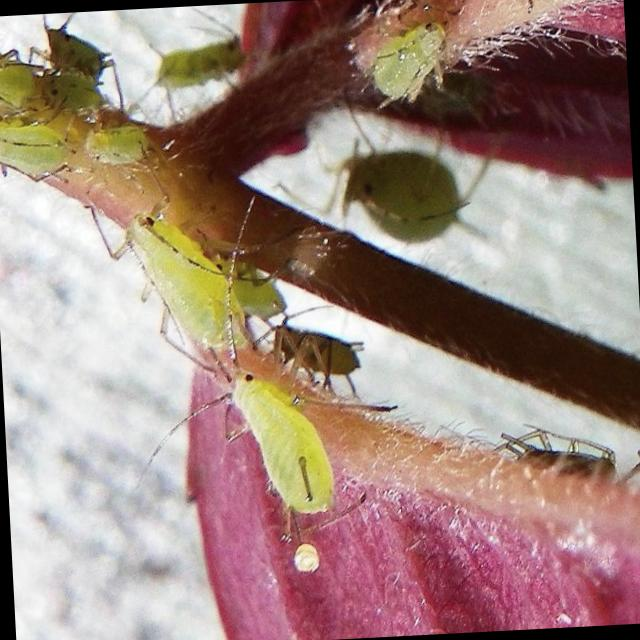Aphids: (127, 301, 386, 555), (100, 175, 288, 368), (330, 110, 480, 242)
